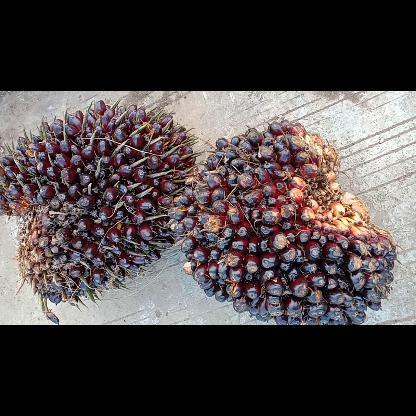TBS mentah: (178, 119, 396, 324), (0, 98, 195, 304)
